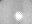person: (14, 12, 21, 21)
